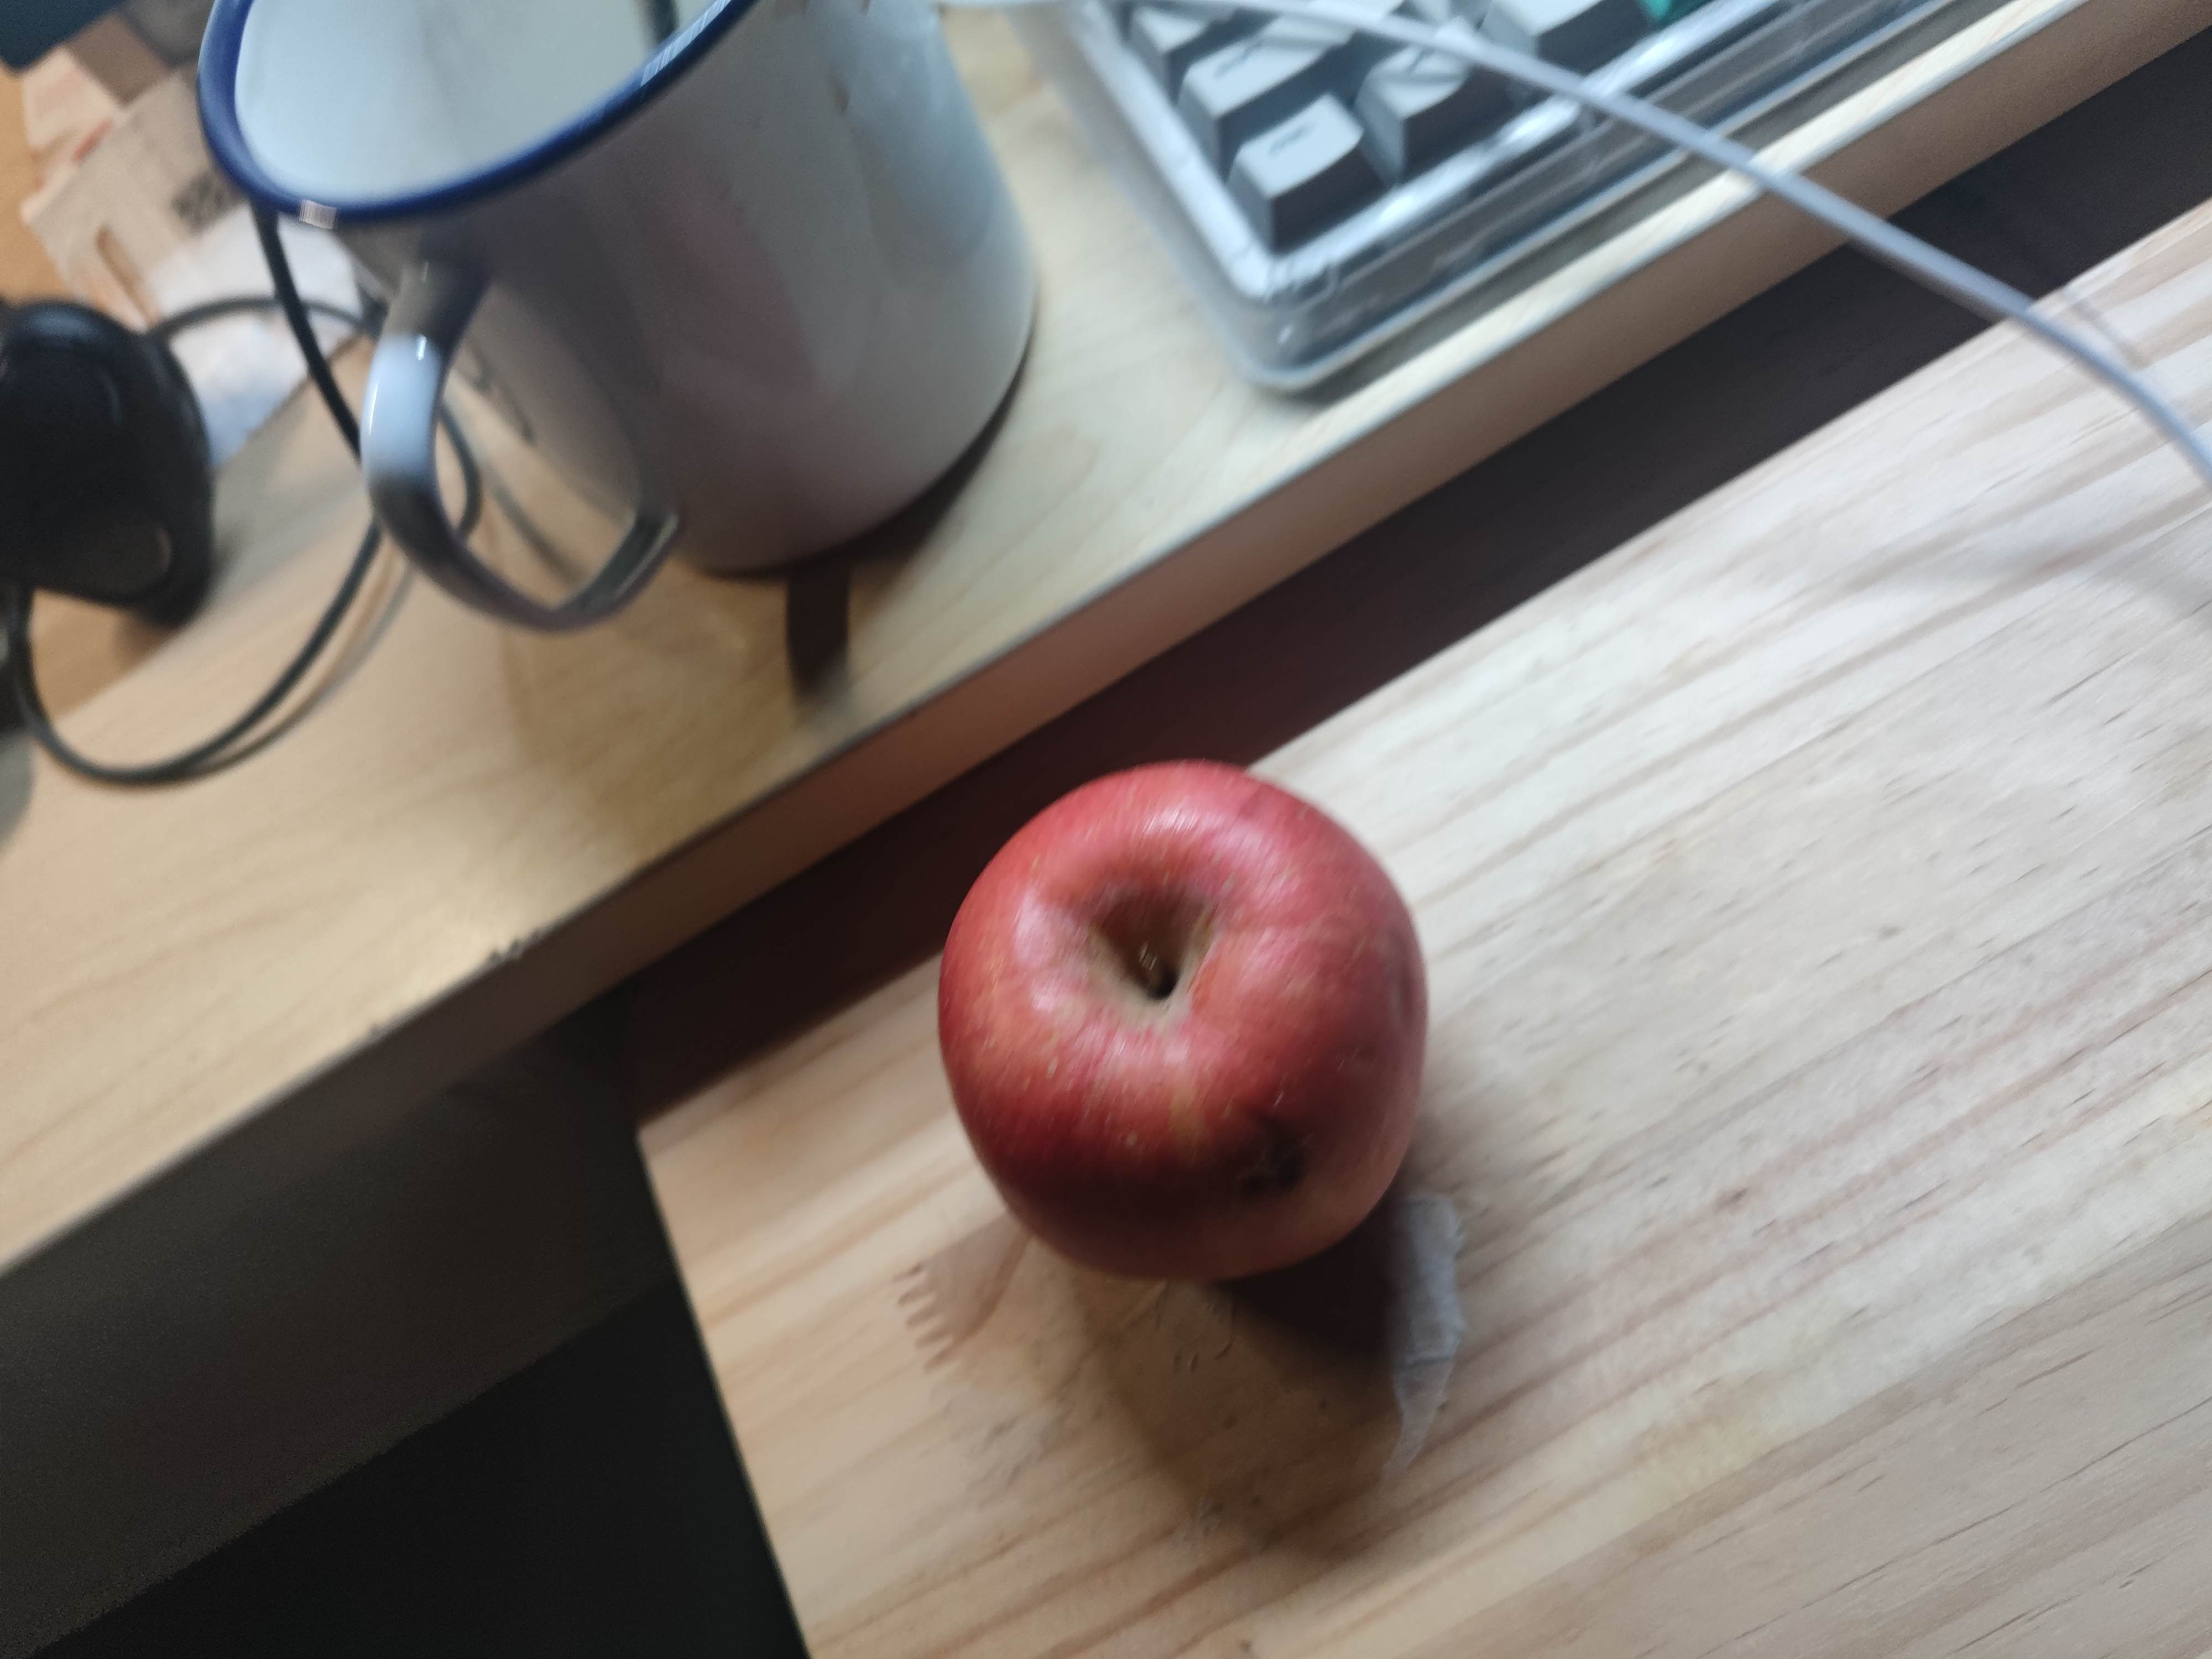apple: (939, 765, 1442, 1281)
